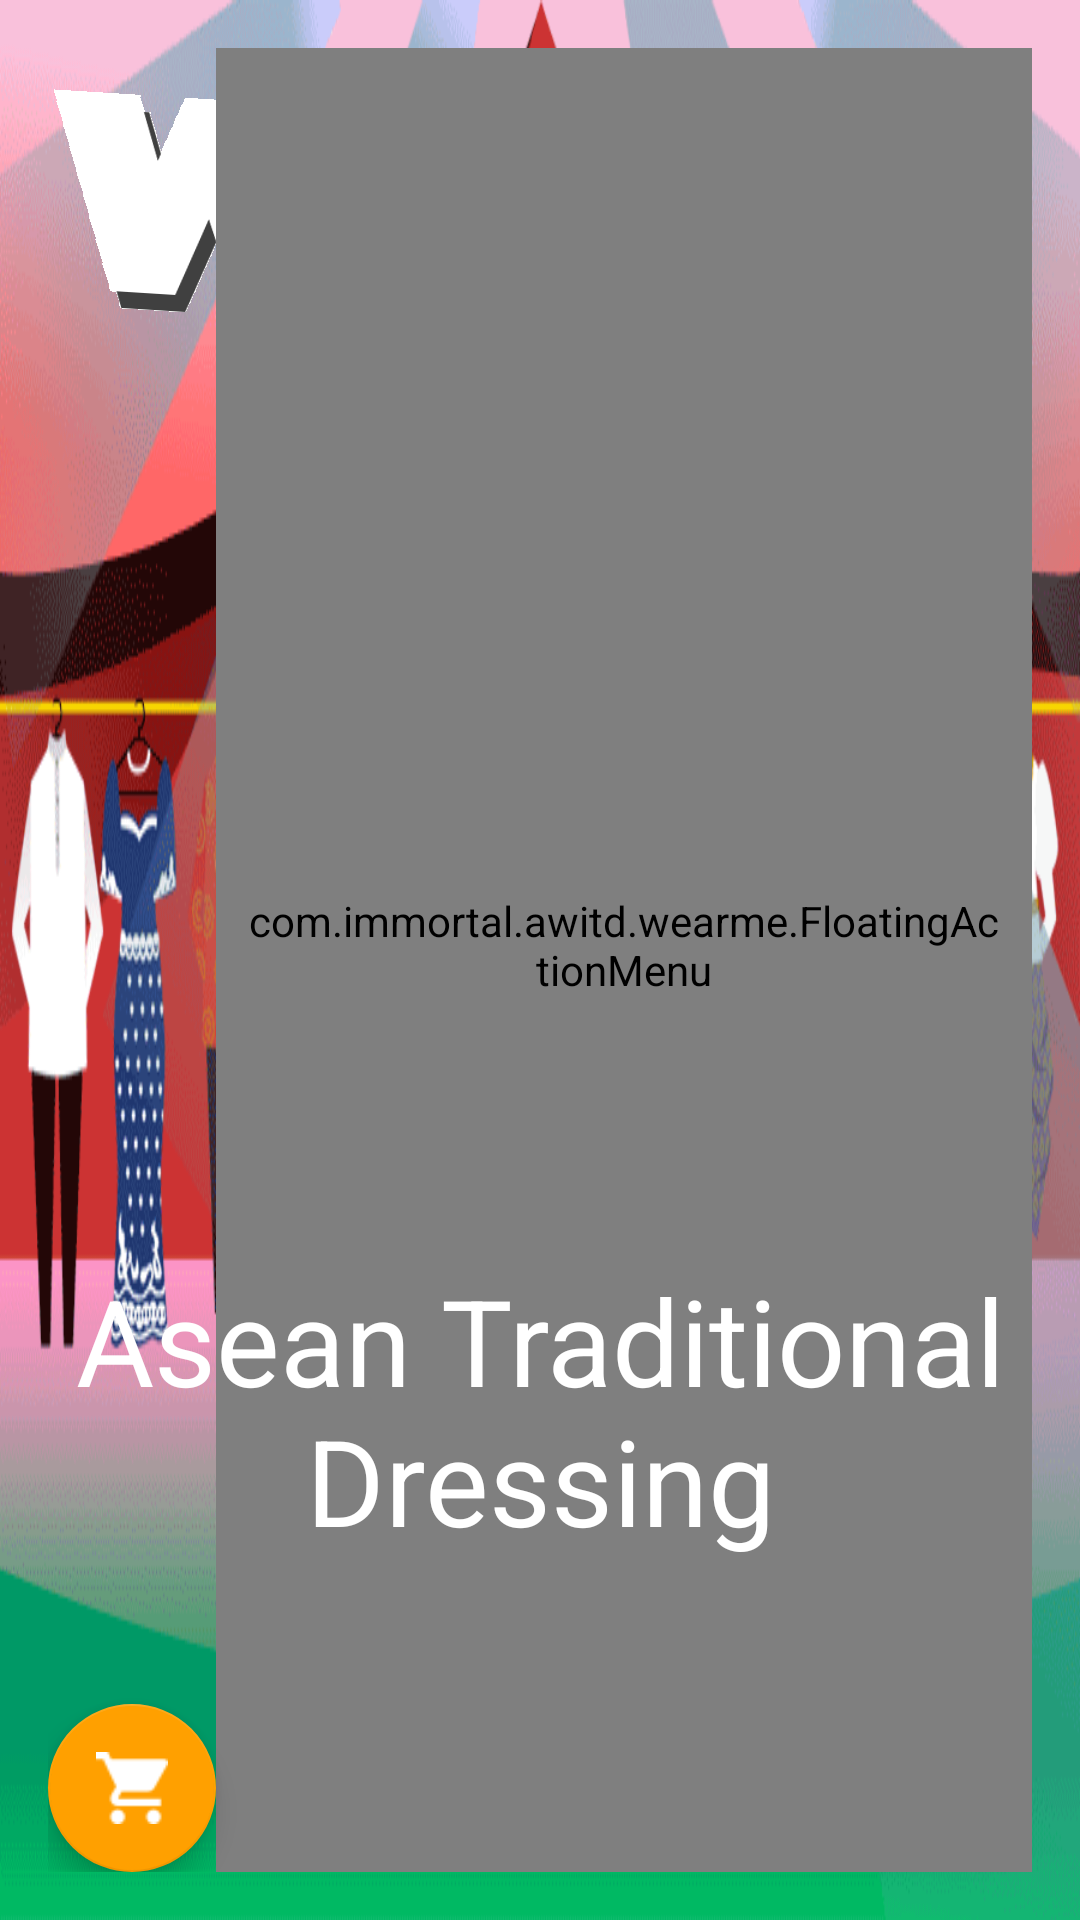

Screen size 1080x1920. Icon name, then its center in pixels as point (x, y):
shopping cart: point (132, 1788)
